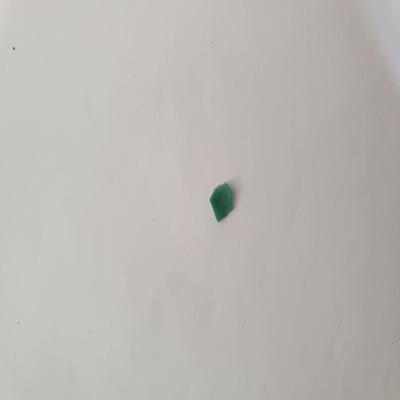plastic: (206, 178, 242, 223)
